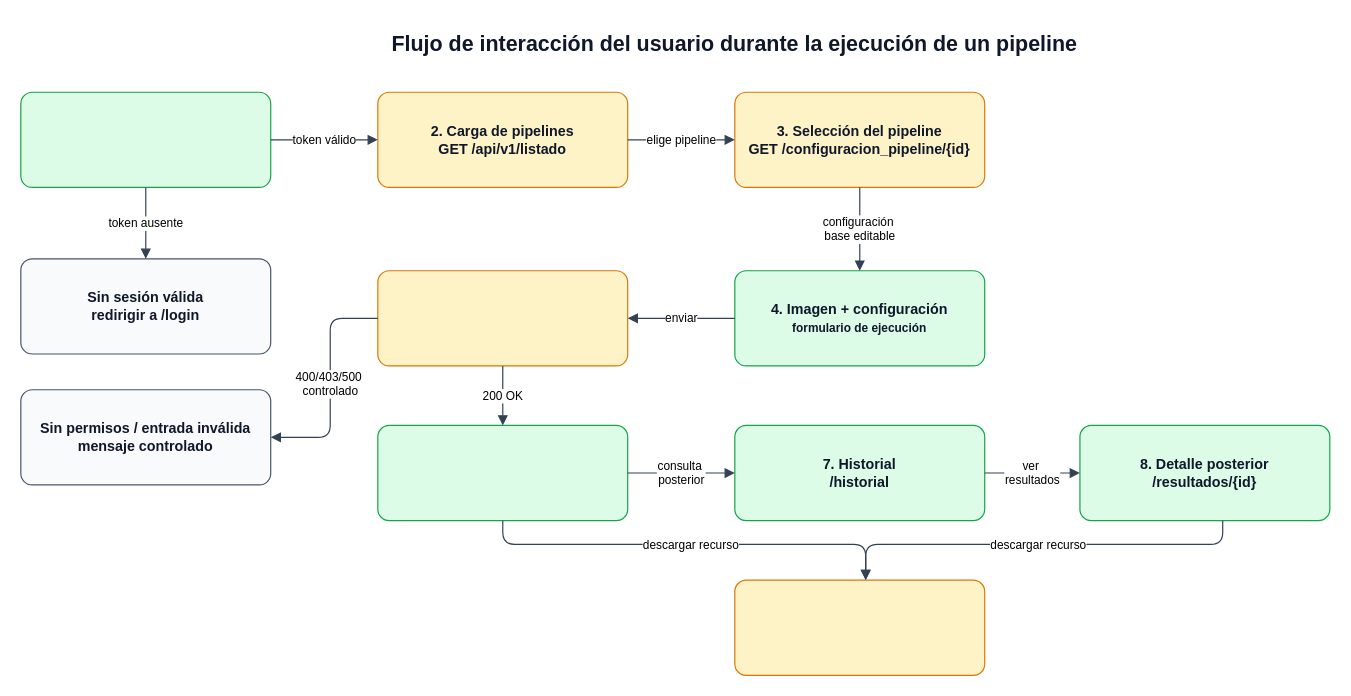
Some shapes in this 1351 by 696 pixel diagram are drawn without their labels. Here are the shapes that lost their labels. From the top down, the centre of each, then its label:
At [145,139]: "1. Acceso a /dashboard comprobación de token".
At [502,318]: "5. Ejecución POST /api/v1/analizar".
At [502,472]: "6. Resultado inmediato imágenes + JSON + tokens".
At [859,627]: "Descarga segura /api/v1/outputs/{token}".
